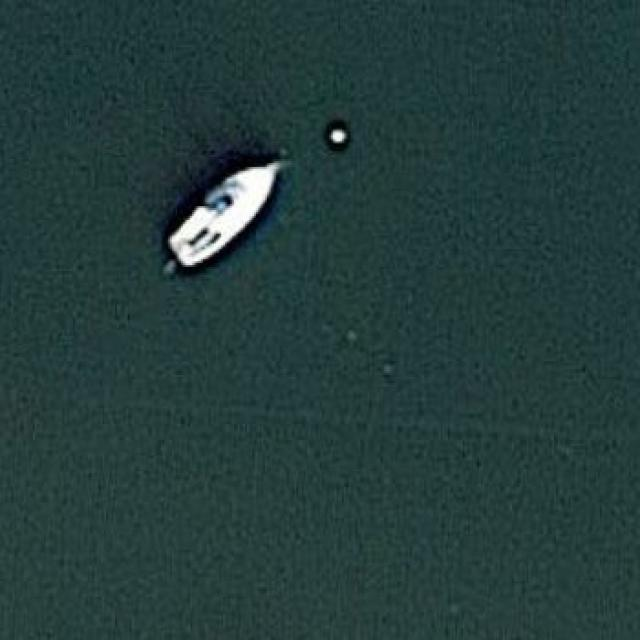boat: (163, 147, 289, 269)
